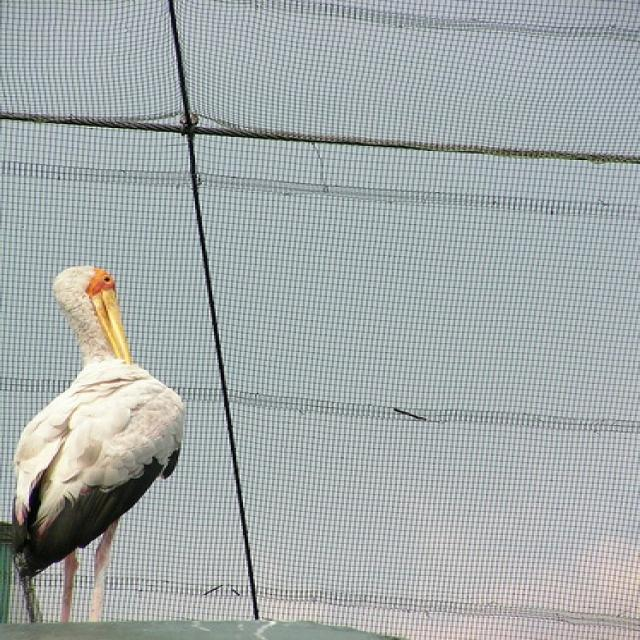bird: (10, 262, 188, 624)
